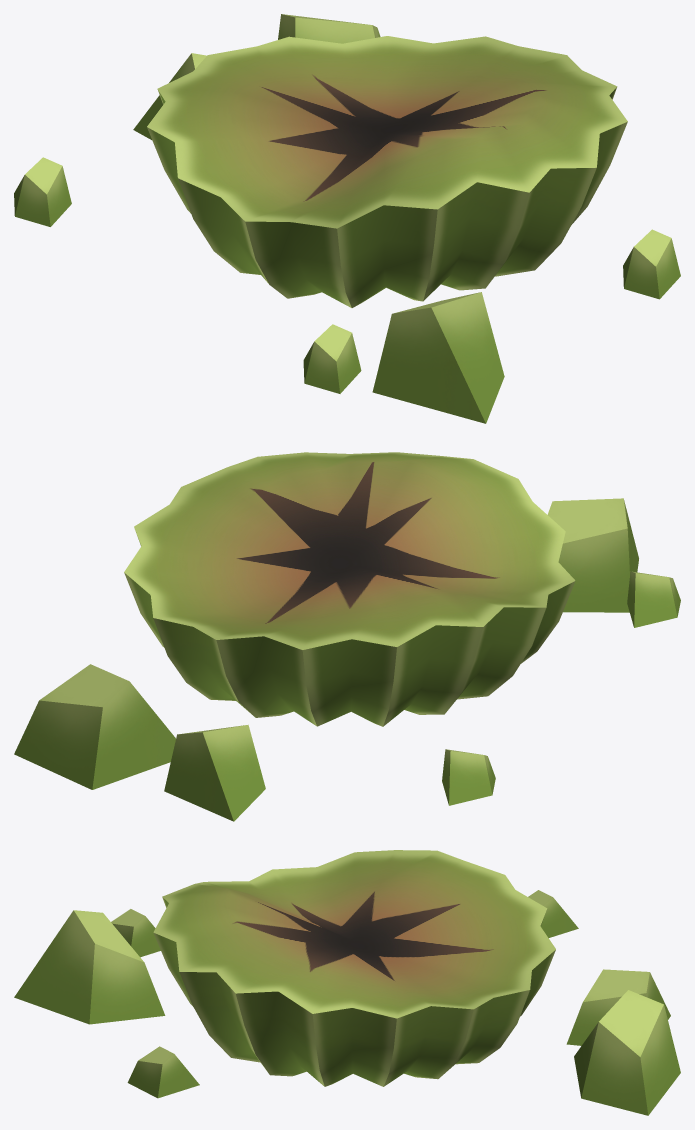
The model's file is BallCactusExploded.fbx.
3 views of the same model, one above another, from view 1: azimuth 30°, elevation 25°; view 2: azimuth 150°, elevation 25°; view 3: azimuth 270°, elevation 25° (orthographic). The views are drawn at different scales.
Parts seen in each view (by area): view 1: pCube33; view 2: pCube33; view 3: pCube33.
Part boxes in pixels (x1,y1,x2,y2): pCube33: (14,14,680,423); pCube33: (14,452,680,821); pCube33: (14,850,680,1115).
Bounding box in the file's own units: 1.57 × 0.5493 × 2.32.
Materials: 1 (1 with a texture image).
